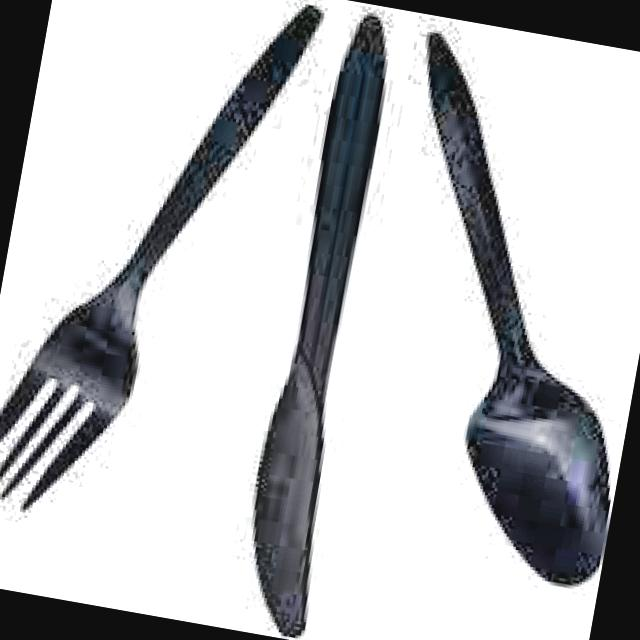plastic utensil: (0, 10, 318, 508), (428, 35, 609, 585), (255, 16, 383, 637)
